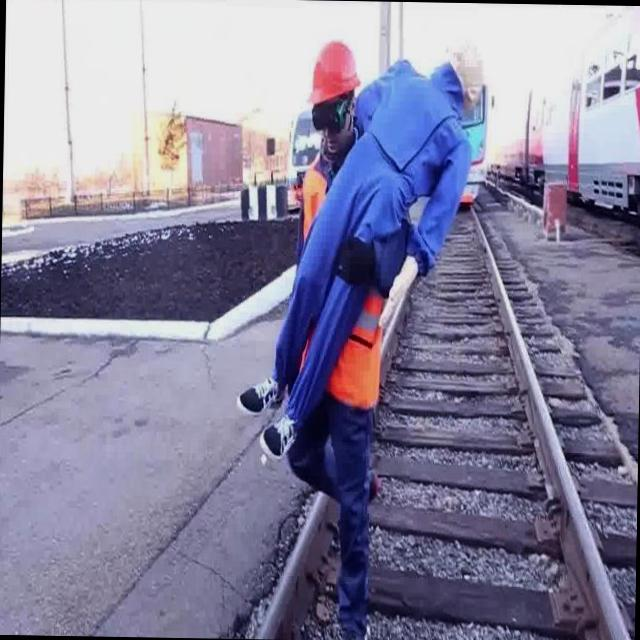vest: (297, 158, 384, 412)
